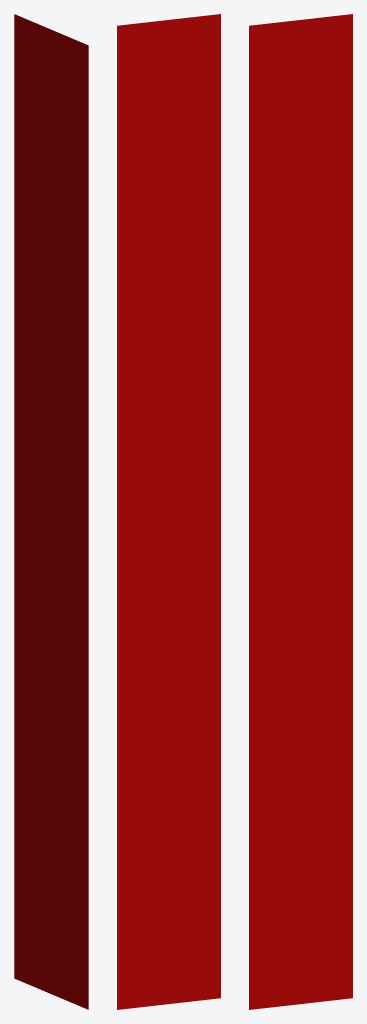
The model's file is Filler_Wall.glb.
The picture shows the model from 3 angles, left to right: view 1: azimuth 90°, elevation 25°; view 2: azimuth 150°, elevation 25°; view 3: azimuth 330°, elevation 25°; orthographic projection. The views are drawn at different scales.
Parts seen in each view (by area): view 1: Filler_Wall; view 2: Filler_Wall; view 3: Filler_Wall.
Part boxes in pixels (x1=…): Filler_Wall: x1=14, y1=14, x2=88, y2=1009; Filler_Wall: x1=117, y1=14, x2=220, y2=1009; Filler_Wall: x1=249, y1=14, x2=352, y2=1009.
Size of the model in its own units: 0.035 by 0.5 by 0.035.
